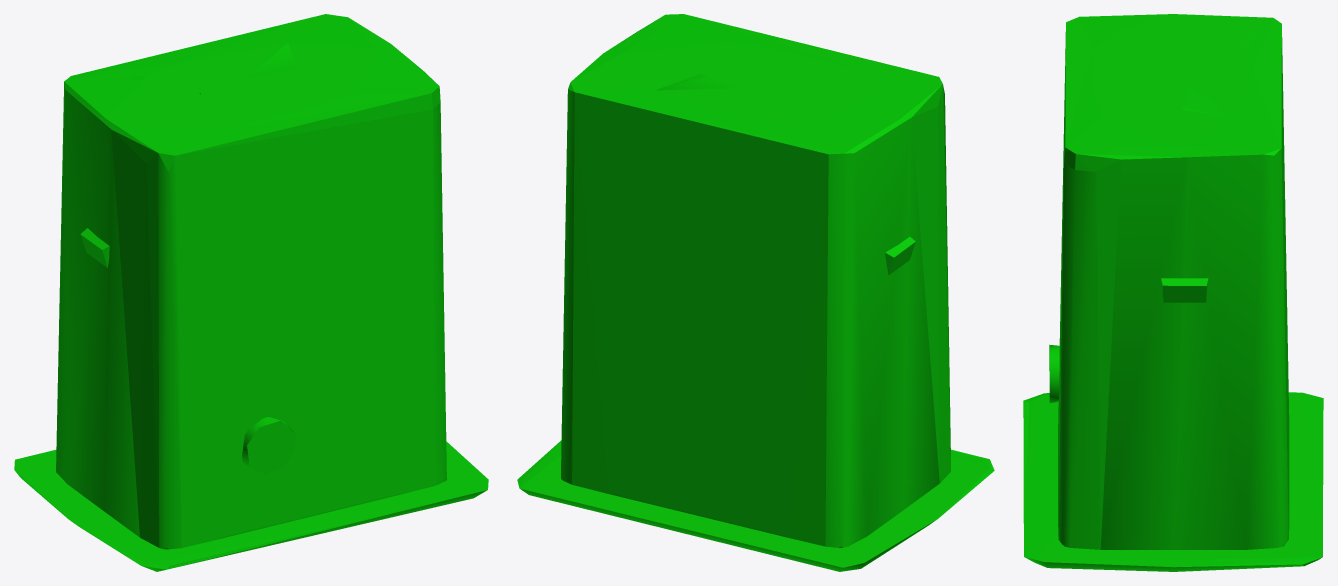
The model's file is UCX_Stove1.fbx.
The picture shows the model from 3 angles, left to right: view 1: azimuth 30°, elevation 25°; view 2: azimuth 150°, elevation 25°; view 3: azimuth 270°, elevation 25°; orthographic projection.
Visible parts, largest first — view 1: UCX_Stove1; view 2: UCX_Stove1; view 3: UCX_Stove1.
Part boxes in pixels (box(x1,y1,x2,y2)): UCX_Stove1: box(14, 14, 488, 571); UCX_Stove1: box(517, 14, 994, 571); UCX_Stove1: box(1023, 14, 1323, 571).
Bounding box in the file's own units: 0.4522 × 0.4746 × 0.3201.
